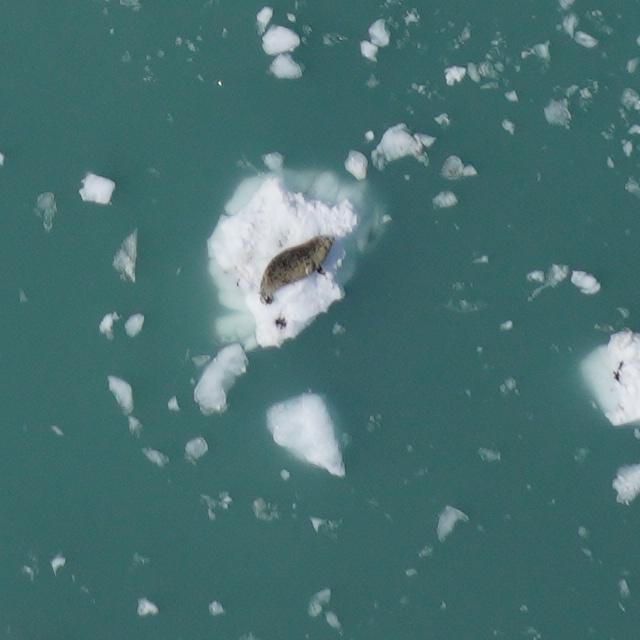seal: (247, 225, 350, 306)
